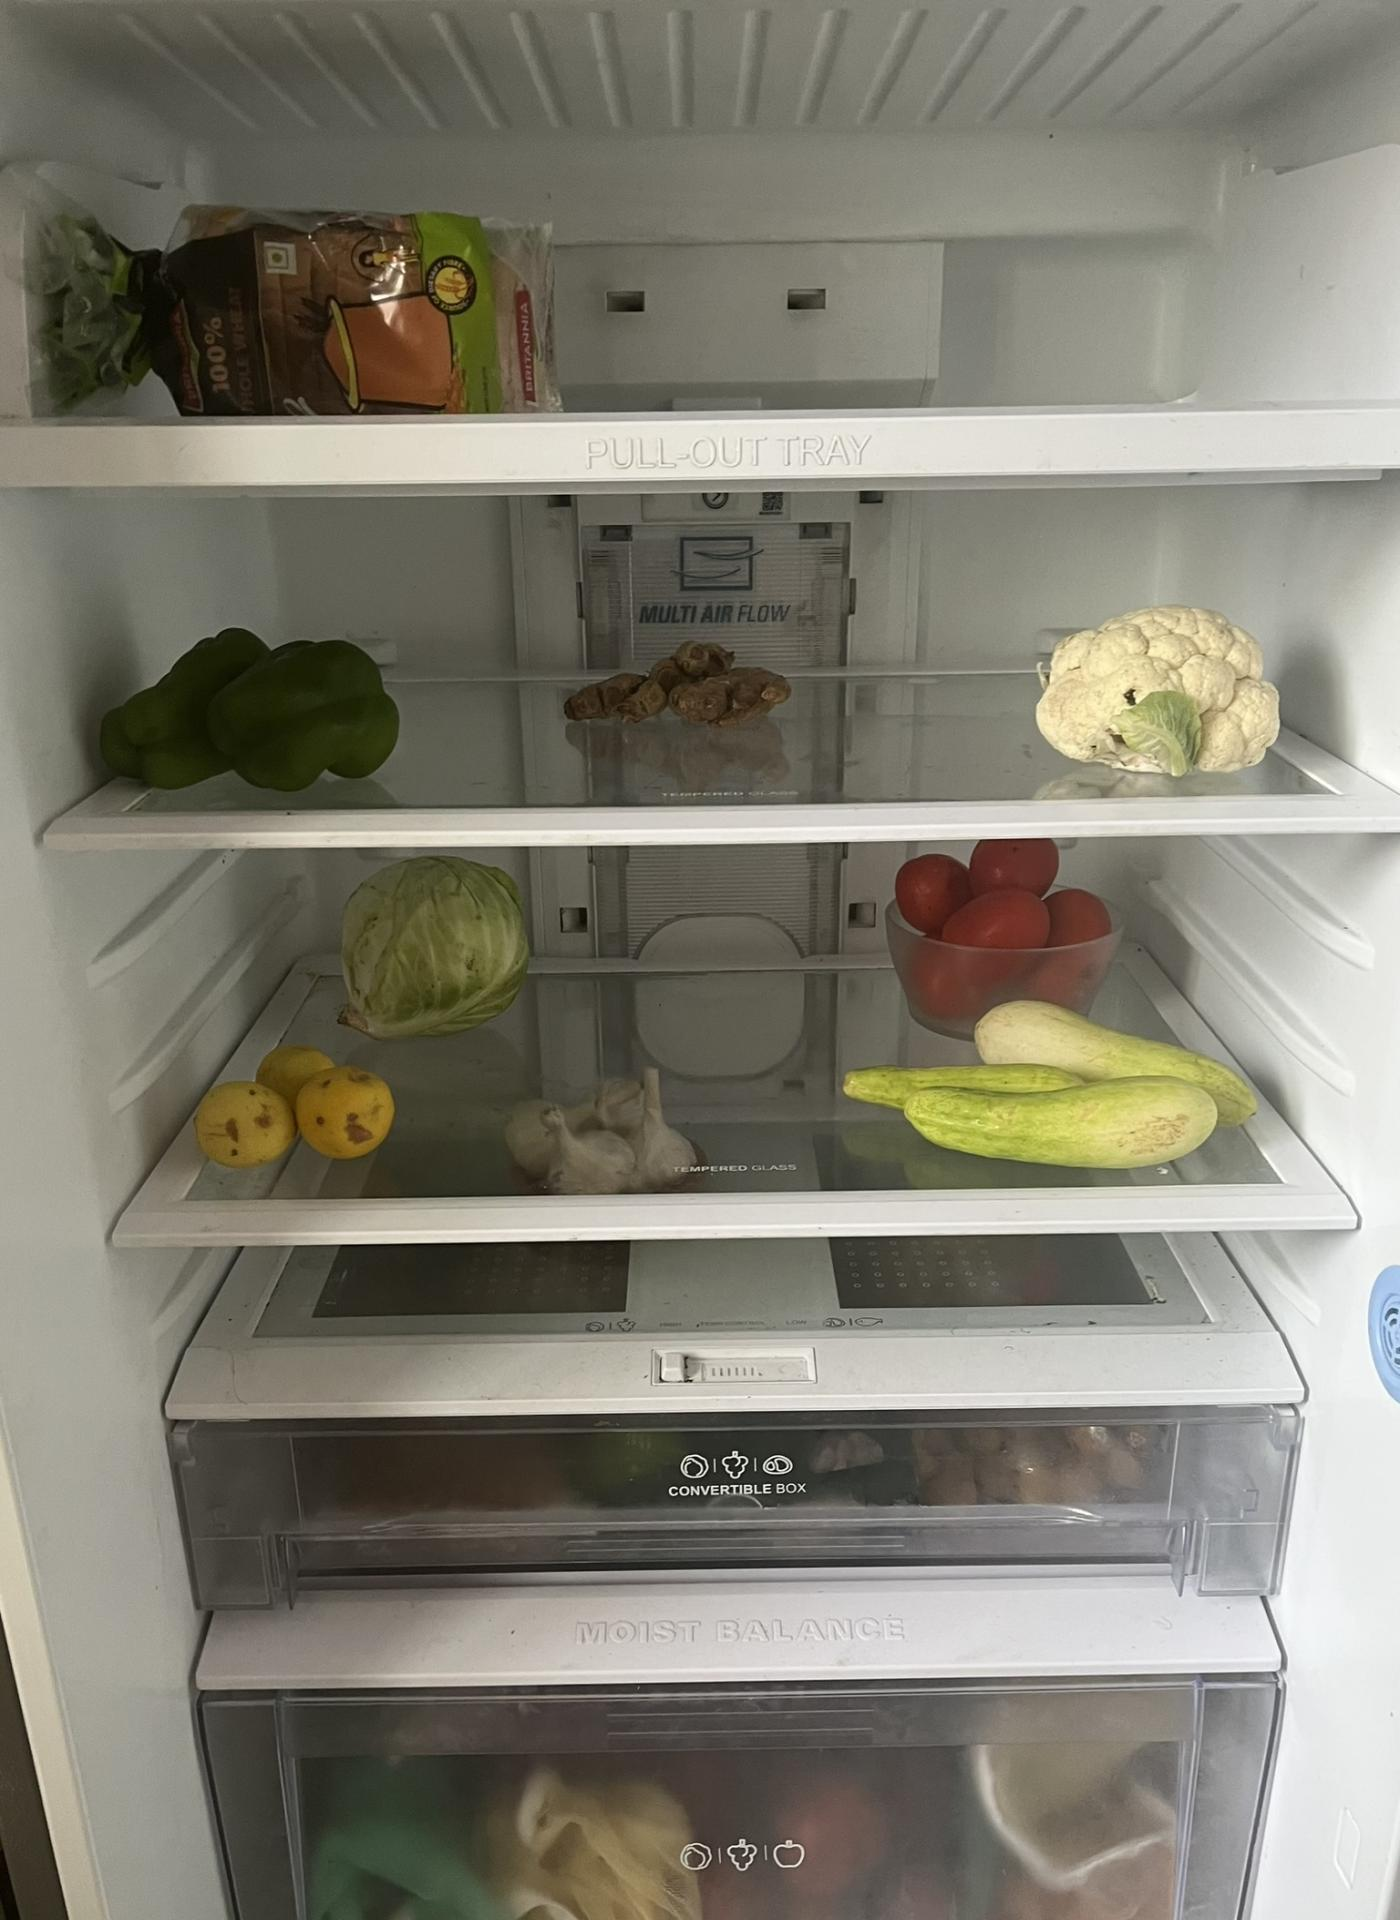bread: (33, 200, 562, 428)
cabbage: (319, 847, 547, 1046)
capsicum: (82, 613, 410, 815)
cauliflower: (1033, 596, 1288, 781)
cucumber: (833, 994, 1276, 1175)
garlic: (513, 1069, 711, 1194)
ginger: (562, 625, 805, 750)
lemon: (185, 1032, 404, 1175)
tomato: (884, 838, 1136, 1035)
